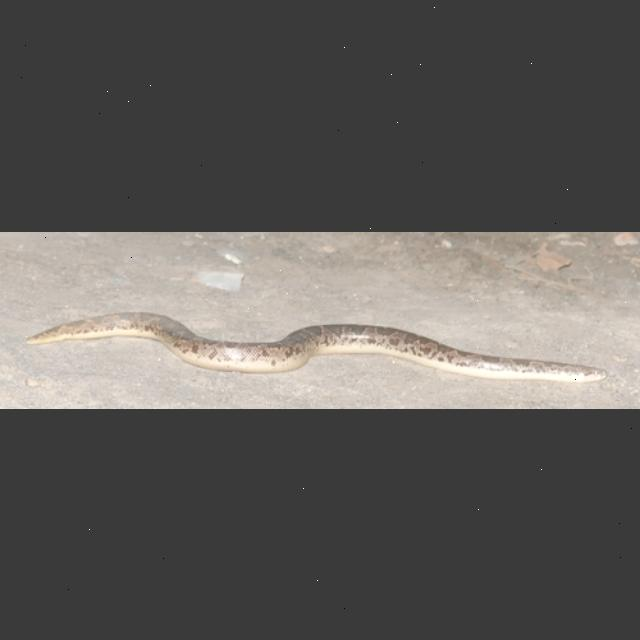snake: (23, 302, 617, 392)
